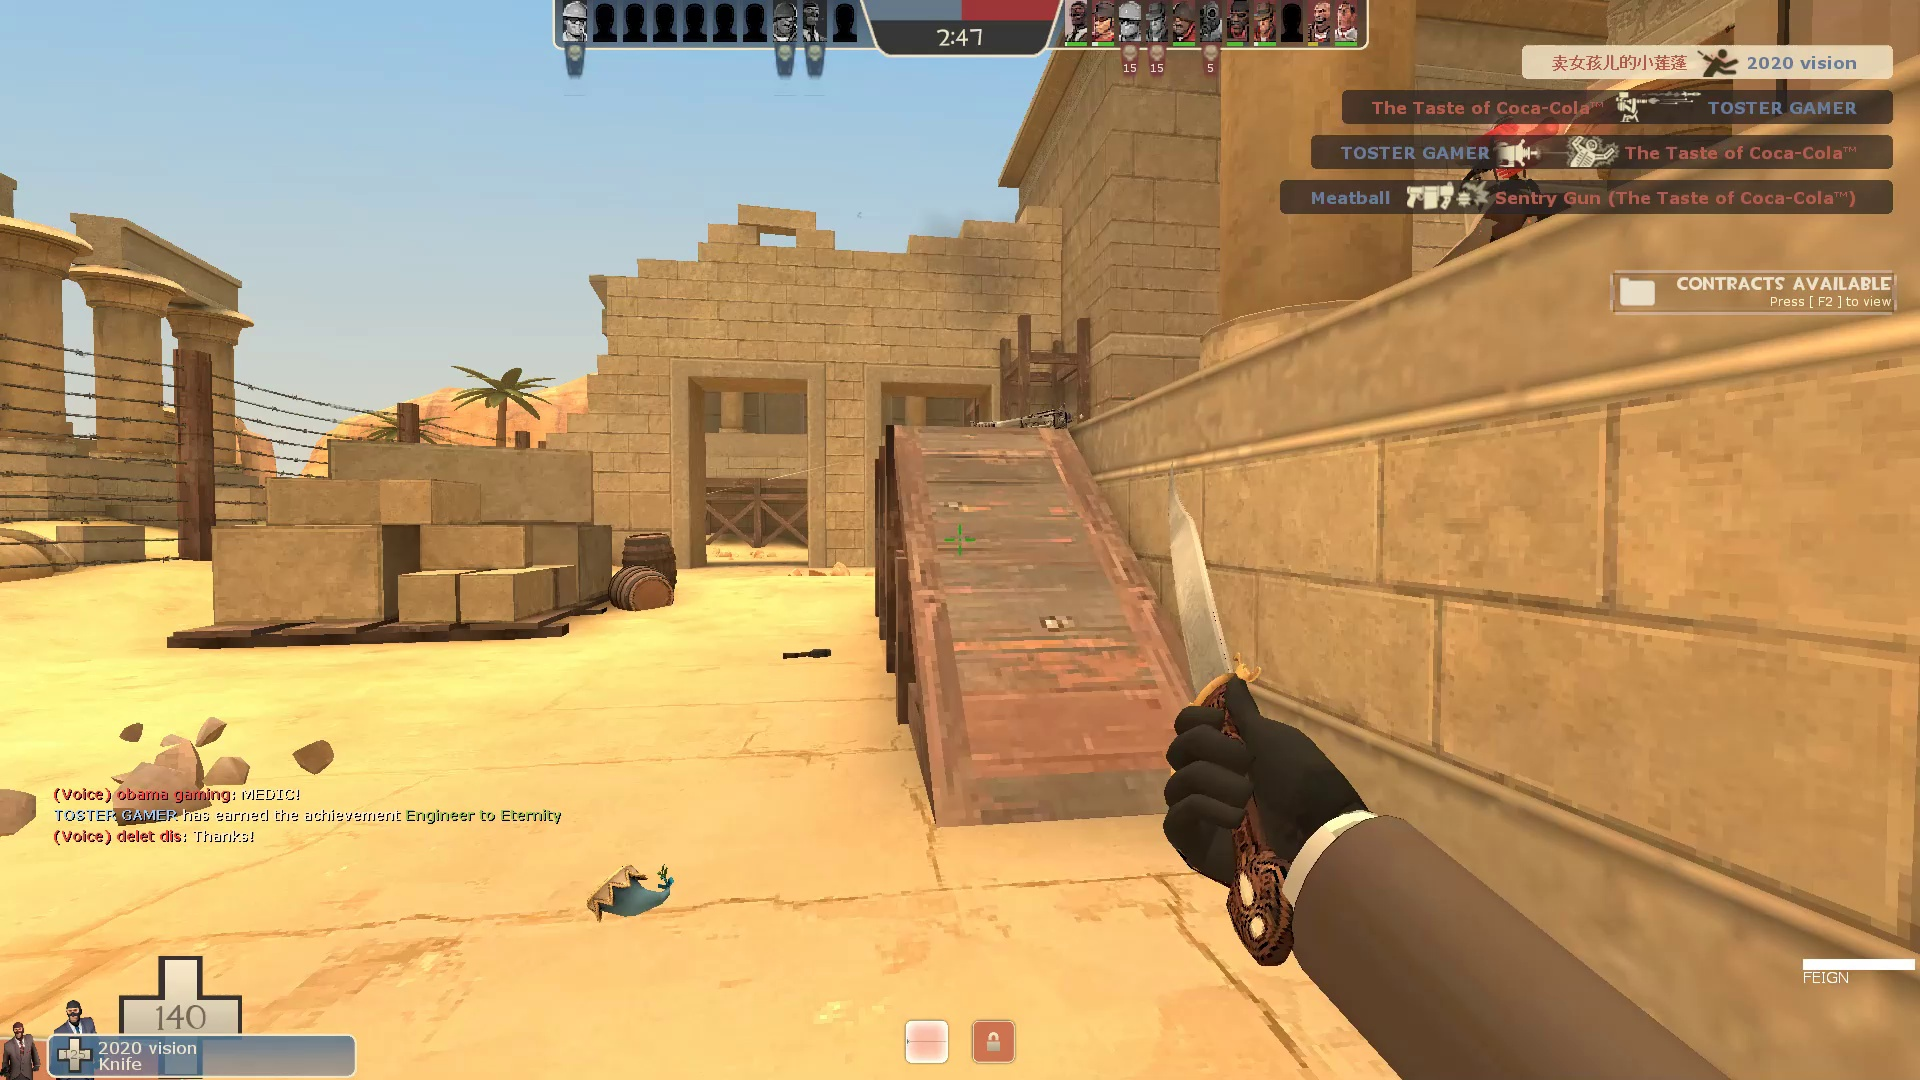red_medic: (1419, 100, 1592, 284)
